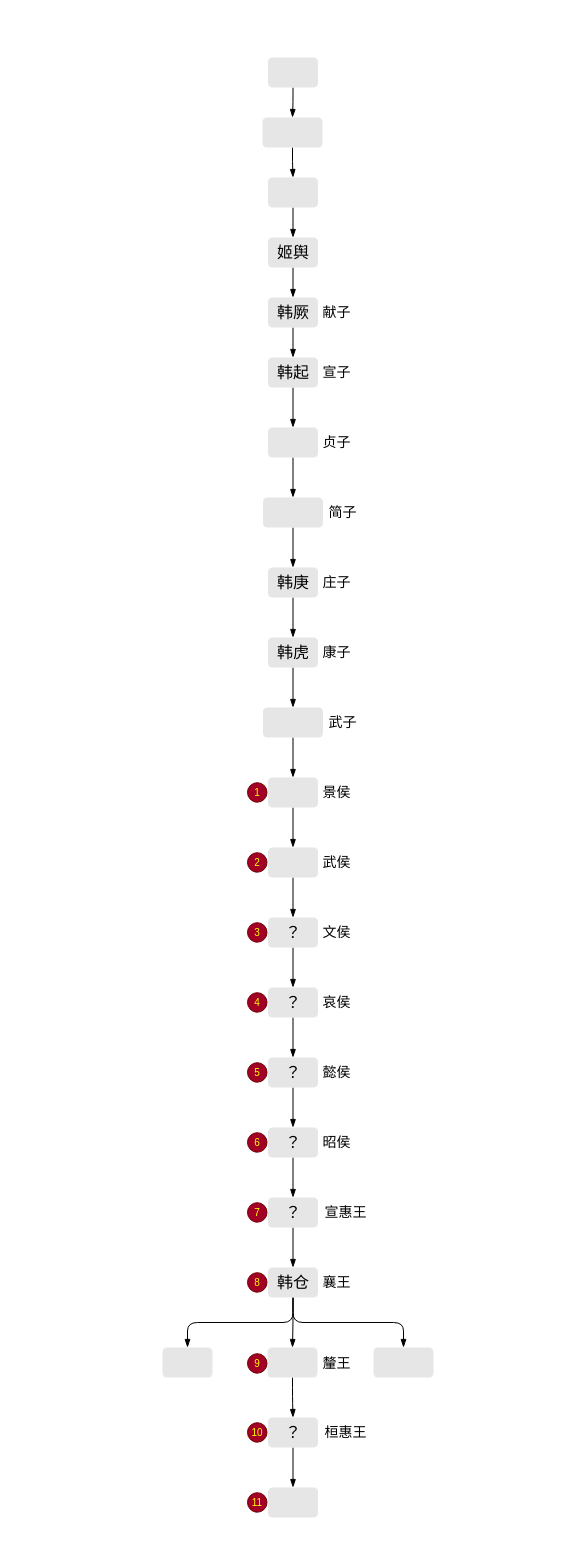
This 584x1564 diagram has some shape labels left out. Here are the shapes that lost their labels. From the top down, the centre of each, then its label:
(x=293, y=72): 姬万
(x=292, y=132): 姬赇伯
(x=293, y=192): 姬简
(x=293, y=442): 韩须
(x=292, y=512): 韩不信
(x=292, y=722): 韩启章
(x=293, y=792): 韩处
(x=293, y=862): 韩取
(x=187, y=1362): 韩婴
(x=292, y=1362): 韩咎
(x=403, y=1362): 韩虮虱
(x=293, y=1502): 韩安
